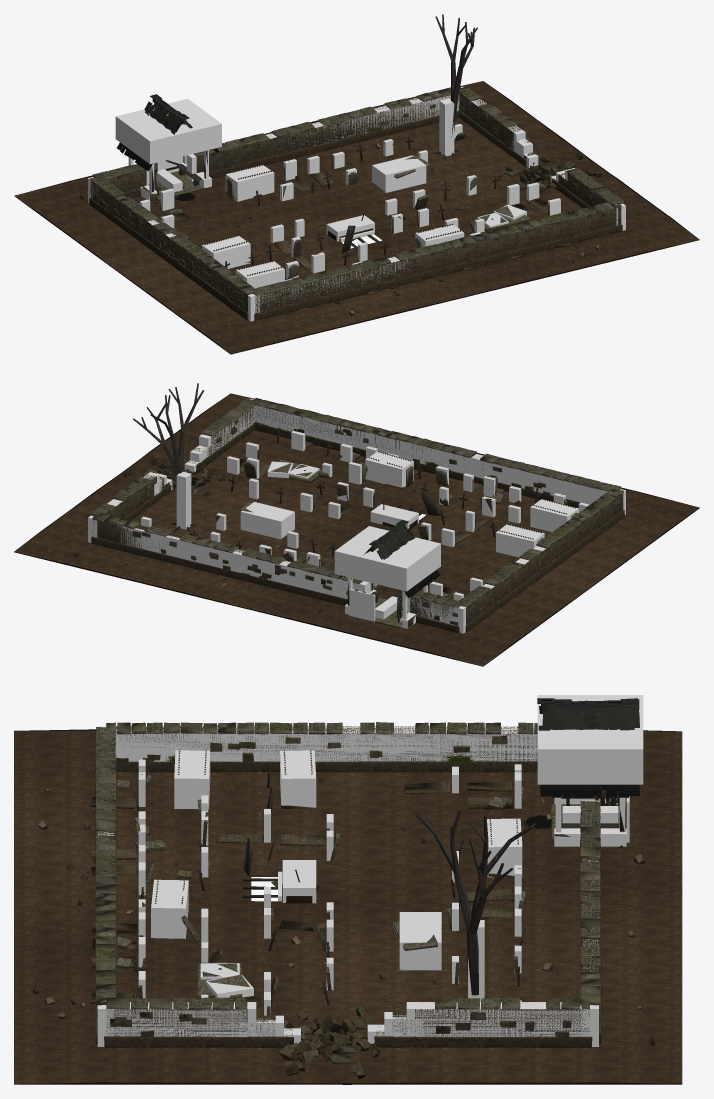
The model's file is bld_graveyard_st_noll_shared_tex.glb.
3 renders of one model, top to bottom at view 1: azimuth 30°, elevation 25°; view 2: azimuth 150°, elevation 25°; view 3: azimuth 270°, elevation 25°, orthographic. The views are drawn at different scales.
Visible parts, largest first — view 1: ground_mud, lite_merge_02, lite_merge_08, lite_merge_04, lite_merge_01, col_lych_roof, lite_merge_05, lite_merge_09, lite_merge_00, col_wall_N_a, col_chest_tomb, col_mortsafe_3 (+11 smaller); view 2: ground_mud, col_wall_S, lite_merge_08, lite_merge_02, lite_merge_04, col_lych_roof, lite_merge_01, col_wall_N_a, lite_merge_05, lite_merge_09, lite_merge_00, col_chest_tomb (+12 smaller); view 3: ground_mud, col_wall_W, lite_merge_04, lite_merge_02, lite_merge_01, lite_merge_08, lite_merge_05, col_lych_roof, lite_merge_00, lite_merge_09, col_wall_E_f, col_wall_E_a (+17 smaller).
Part boxes in pixels (x1,y1,x2,y2): ground_mud: [14, 81, 699, 354]; lite_merge_02: [254, 151, 622, 320]; lite_merge_08: [196, 94, 535, 178]; lite_merge_04: [79, 132, 599, 325]; lite_merge_01: [252, 161, 623, 295]; col_lych_roof: [115, 99, 221, 164]; lite_merge_05: [90, 143, 478, 294]; lite_merge_09: [89, 169, 248, 320]; lite_merge_00: [193, 86, 517, 192]; col_wall_N_a: [186, 93, 459, 181]; col_chest_tomb: [372, 155, 426, 192]; col_mortsafe_3: [225, 165, 274, 201]; ground_mud: [14, 393, 699, 666]; col_wall_S: [250, 398, 625, 515]; lite_merge_08: [91, 474, 347, 605]; lite_merge_02: [123, 405, 589, 508]; lite_merge_04: [72, 441, 623, 639]; col_lych_roof: [334, 526, 440, 591]; lite_merge_01: [143, 398, 621, 495]; col_wall_N_a: [113, 524, 370, 598]; lite_merge_05: [226, 452, 623, 606]; lite_merge_09: [410, 498, 624, 633]; lite_merge_00: [90, 476, 363, 583]; col_chest_tomb: [240, 502, 294, 539]; ground_mud: [14, 729, 682, 1084]; col_wall_W: [104, 726, 537, 761]; lite_merge_04: [32, 726, 655, 1045]; lite_merge_02: [95, 750, 381, 1079]; lite_merge_01: [95, 727, 367, 1063]; lite_merge_08: [374, 817, 601, 1047]; lite_merge_05: [106, 722, 537, 1015]; col_lych_roof: [537, 695, 643, 784]; lite_merge_00: [392, 801, 600, 1009]; lite_merge_09: [116, 736, 537, 772]; col_wall_E_f: [406, 1002, 598, 1046]; col_wall_E_a: [97, 1002, 256, 1046].
Bounding box in the file's own units: 30 × 9.54 × 24.63.
10 materials, 10 textured.
